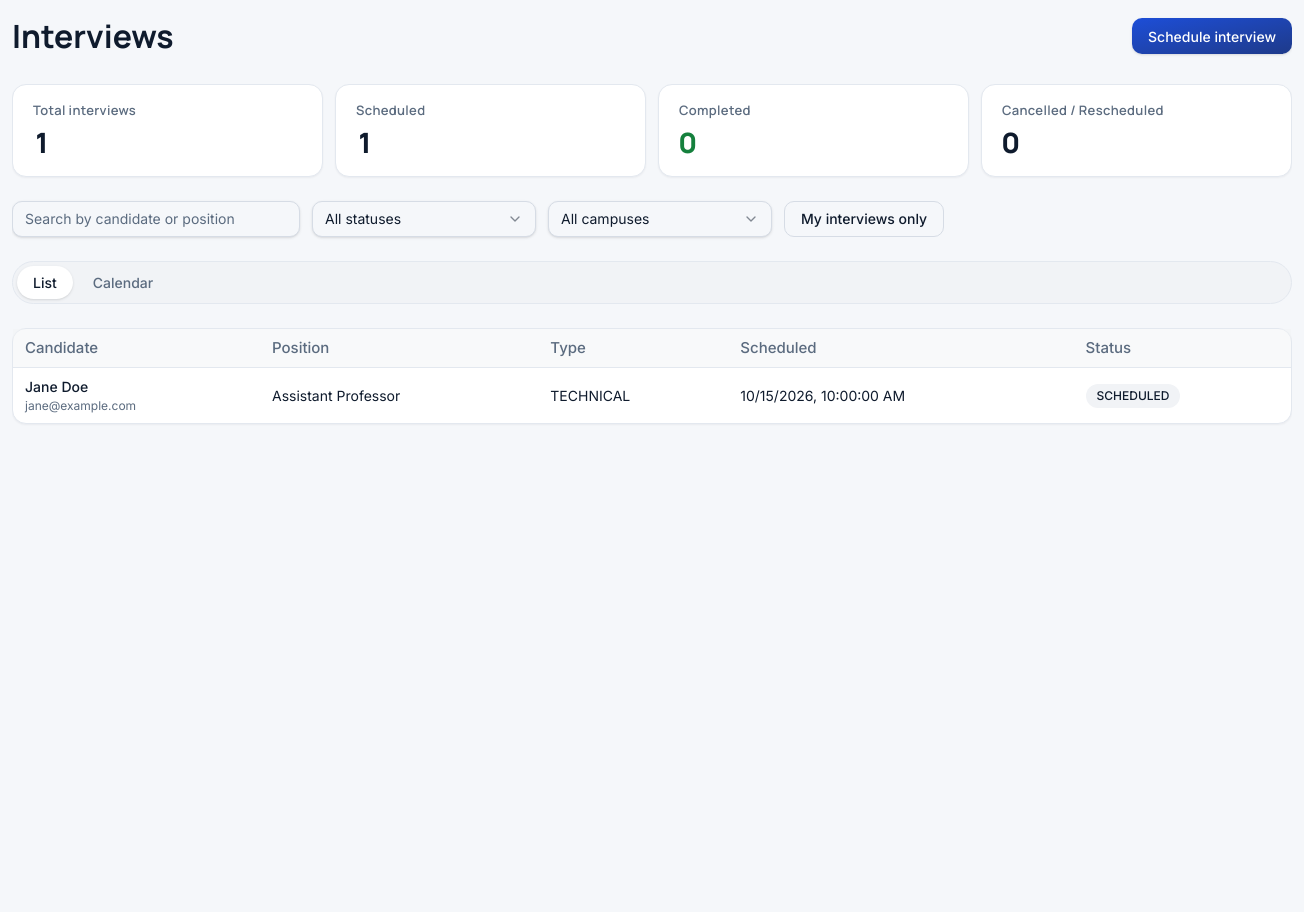
InterviewsListPage calendar view › defaults to the list view and switches to a month grid on demand
This screenshot has width=1304, height=912.
Expected: the link "Jane Doe" is shown, [25, 378, 88, 395]
Expected: the column heading "Candidate" is shown, [13, 328, 260, 368]
Click the tab "Calendar": (123, 282) [77, 266, 169, 298]
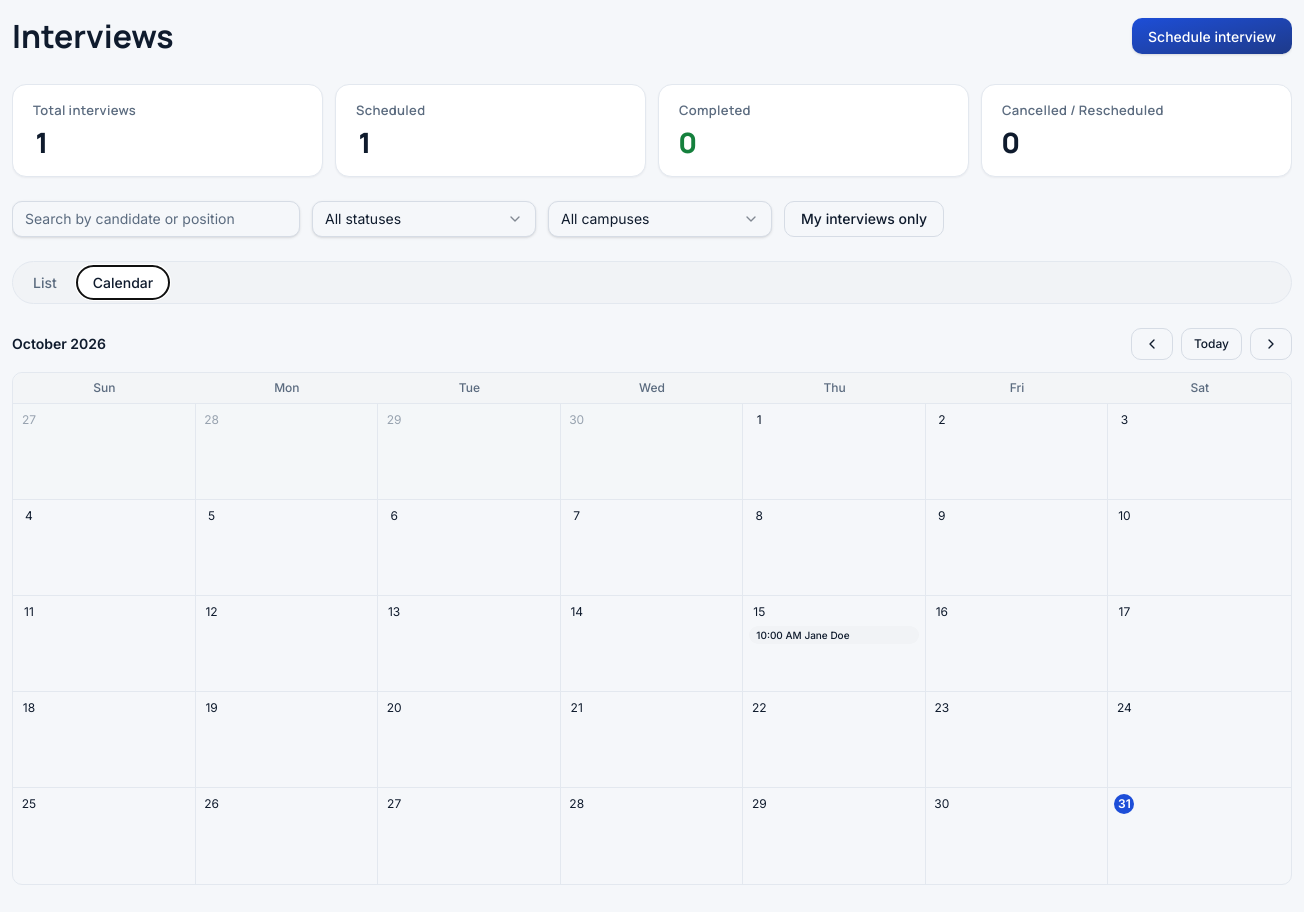
Now the text "Sun" is shown, box [93, 380, 115, 394]
Now the text "Sat" is shown, box [1190, 380, 1209, 394]
